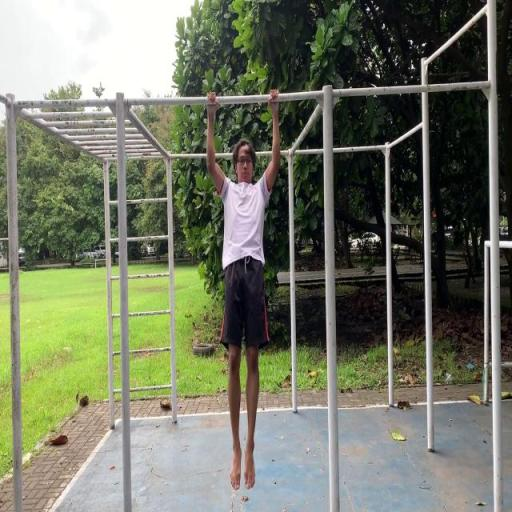Normal_BrenchPress: (205, 87, 282, 492)
